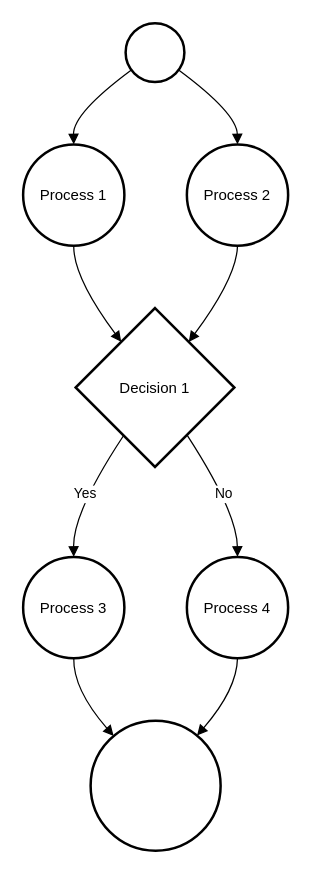
Image size: 310x873. Some labels were removed from this diagram. The shapes that lost their labels are listed below. From the top down, each one's box as (x1, y1, x2, y2) in pixels, then its label:
(124, 21, 185, 82): User
(89, 719, 221, 851): Data Store 1
